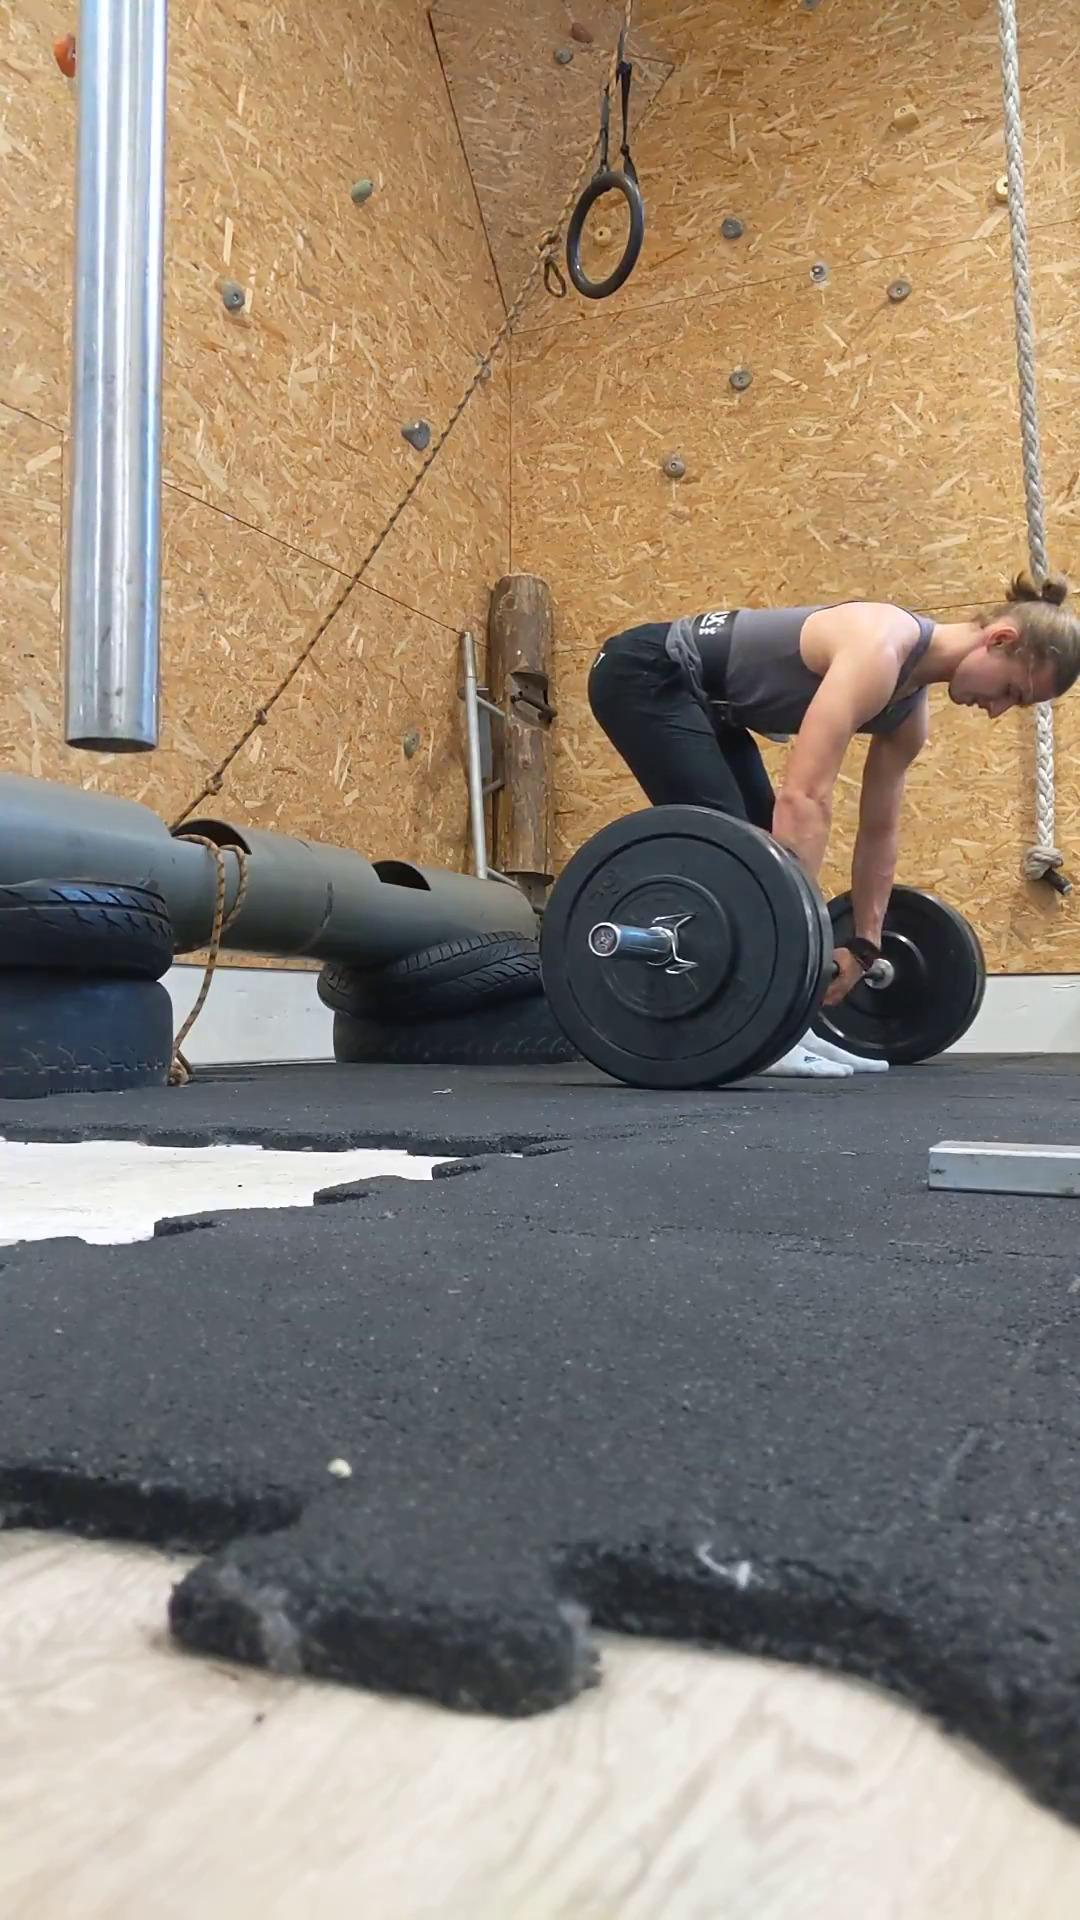barbell: (541, 803, 807, 1087), (810, 884, 977, 1064)
